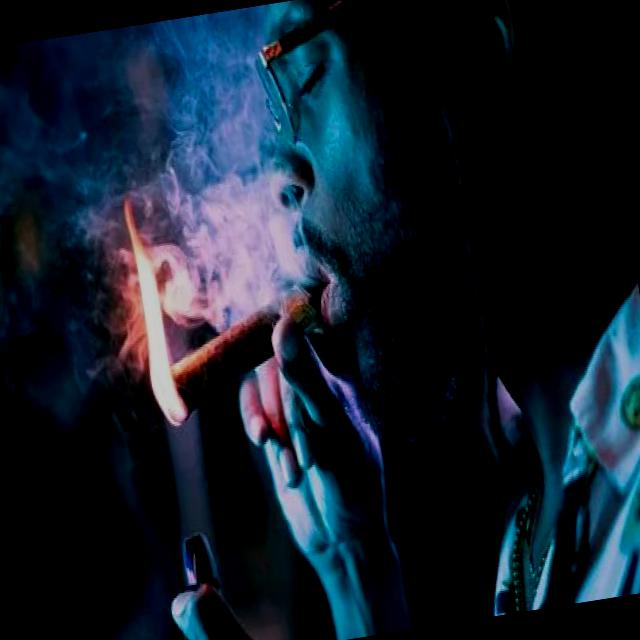cigarette: (132, 266, 344, 436)
